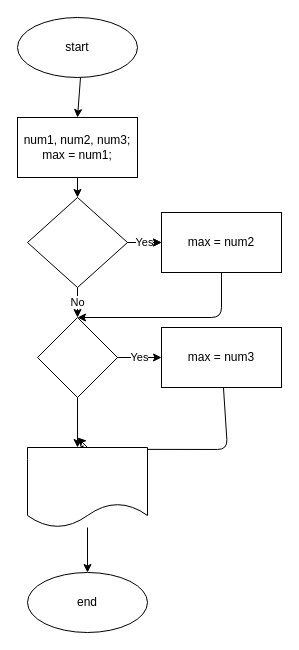
Image size: 299x650. Some labels were removed from this diagram. The shapes that lost their labels are listed below. From the top down, each one's centre as x and y in pixels, then its label:
point (77, 242): num2 > max
point (77, 357): num3 > max
point (87, 487): max
